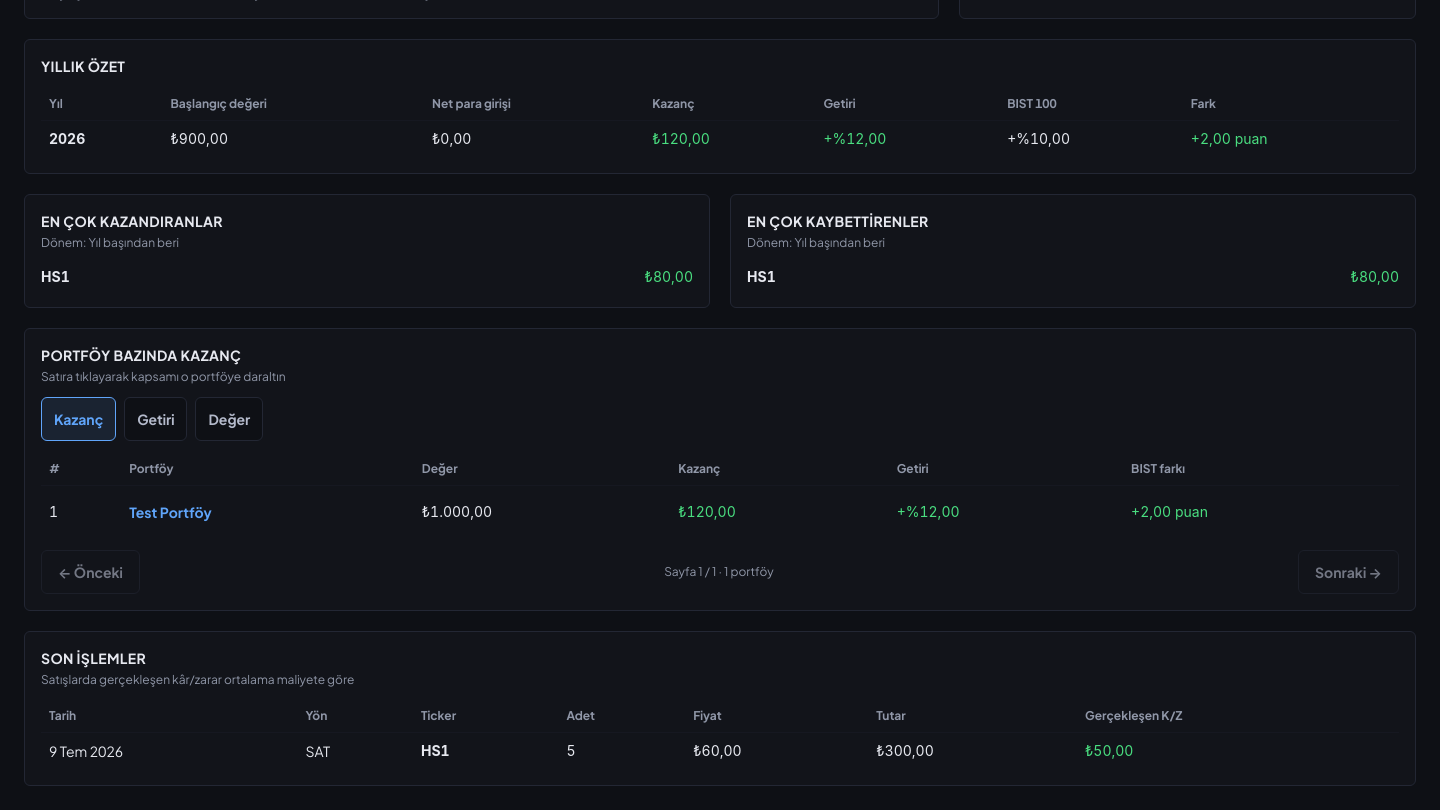
Test: EarningsAnalysisView › scopes to a portfolio when its ranking row is clicked
(page scrolled)
Click the button with aria-label "Test Portföy portföyüne daralt" at (170, 512), box x1=129 y1=490 x2=212 y2=534
(page scrolled)
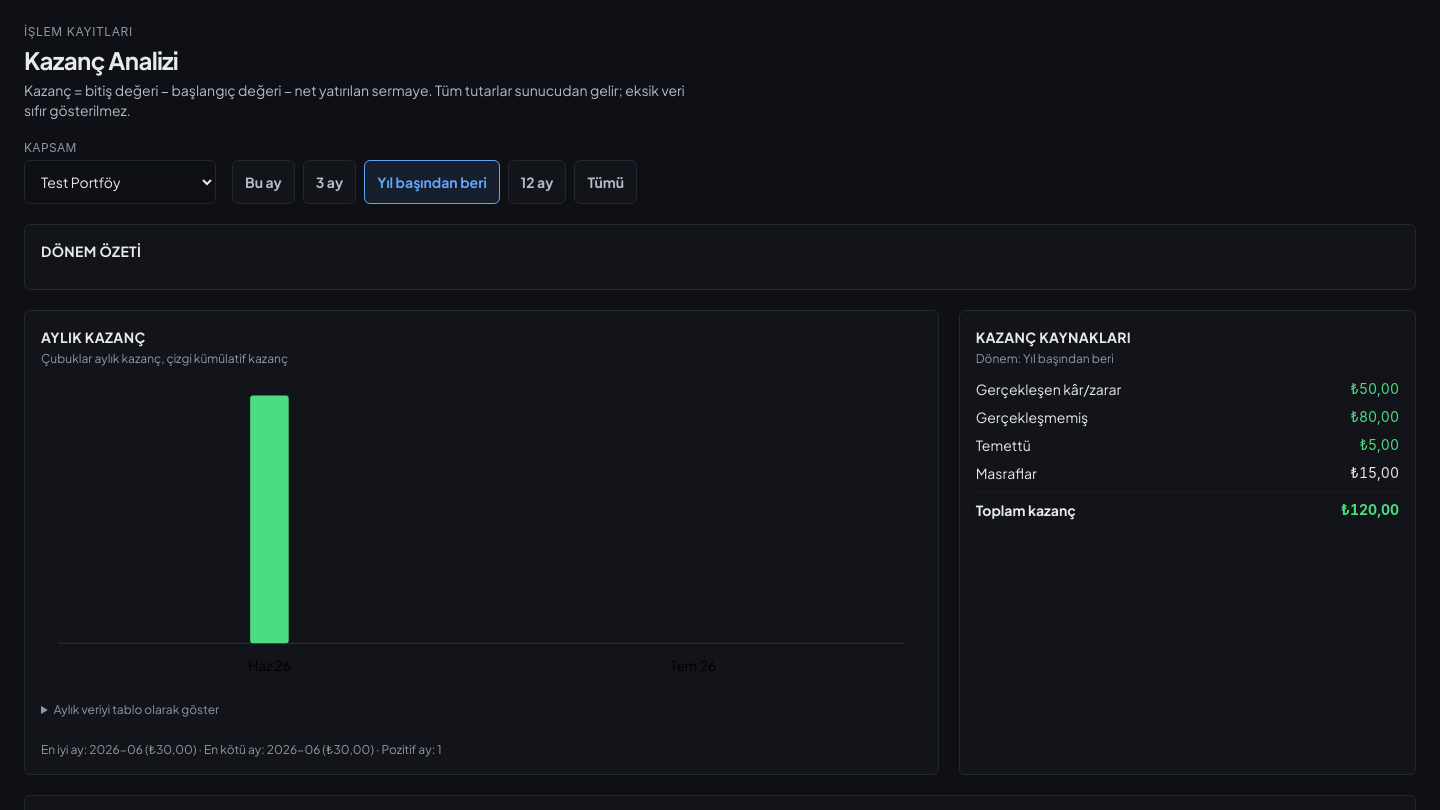
Expected: the dropdown labelled "Kapsam" shows "Test Portföy", x1=24 y1=160 x2=216 y2=204
